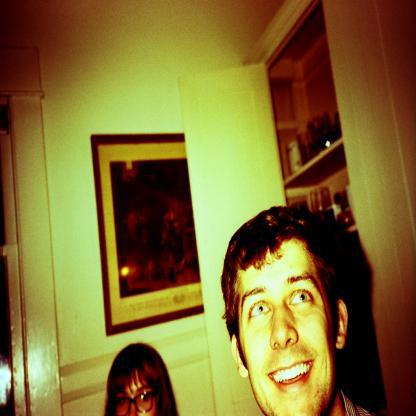Picture-frame: (91, 133, 207, 338)
